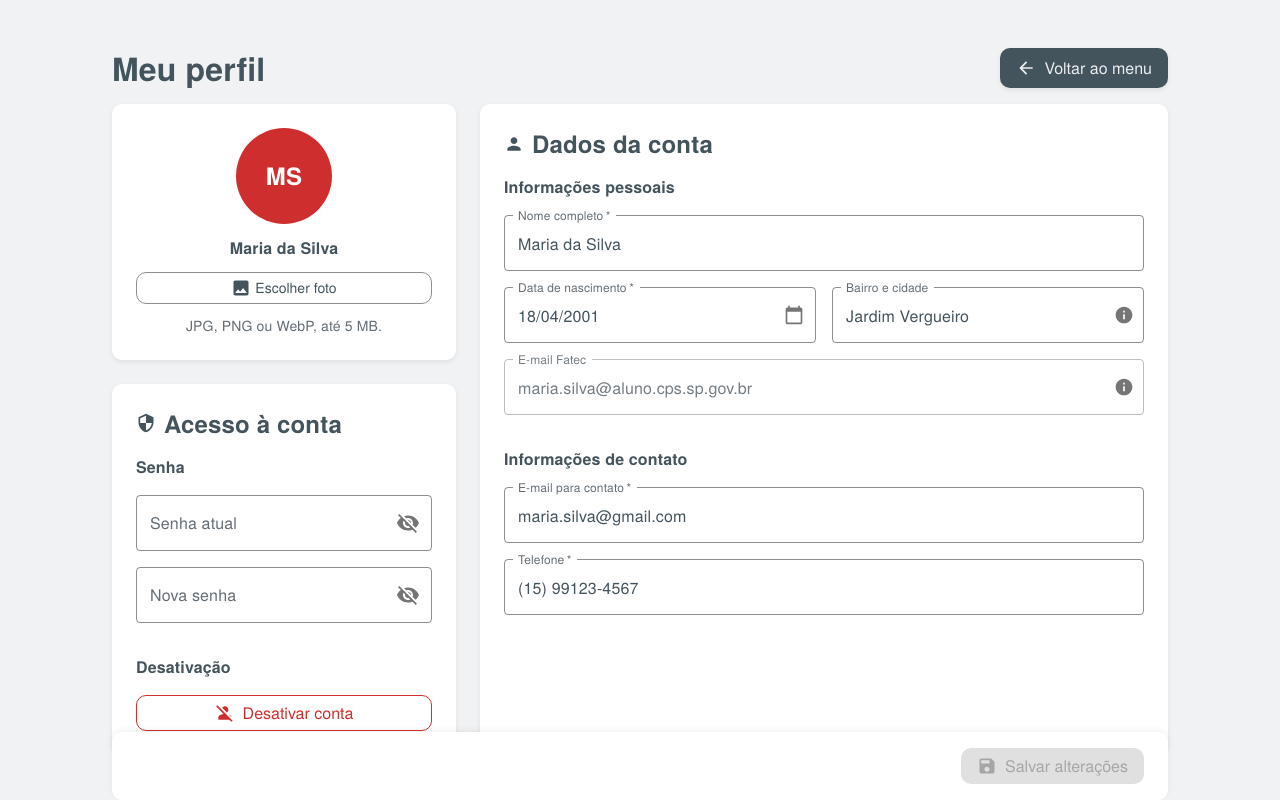
Test: Profile › should explain what the neighborhood is for
The width and height of the screenshot is (1280, 800).
Click the button named "Bairro e cidade" at (1124, 315), box [1108,299,1140,331]
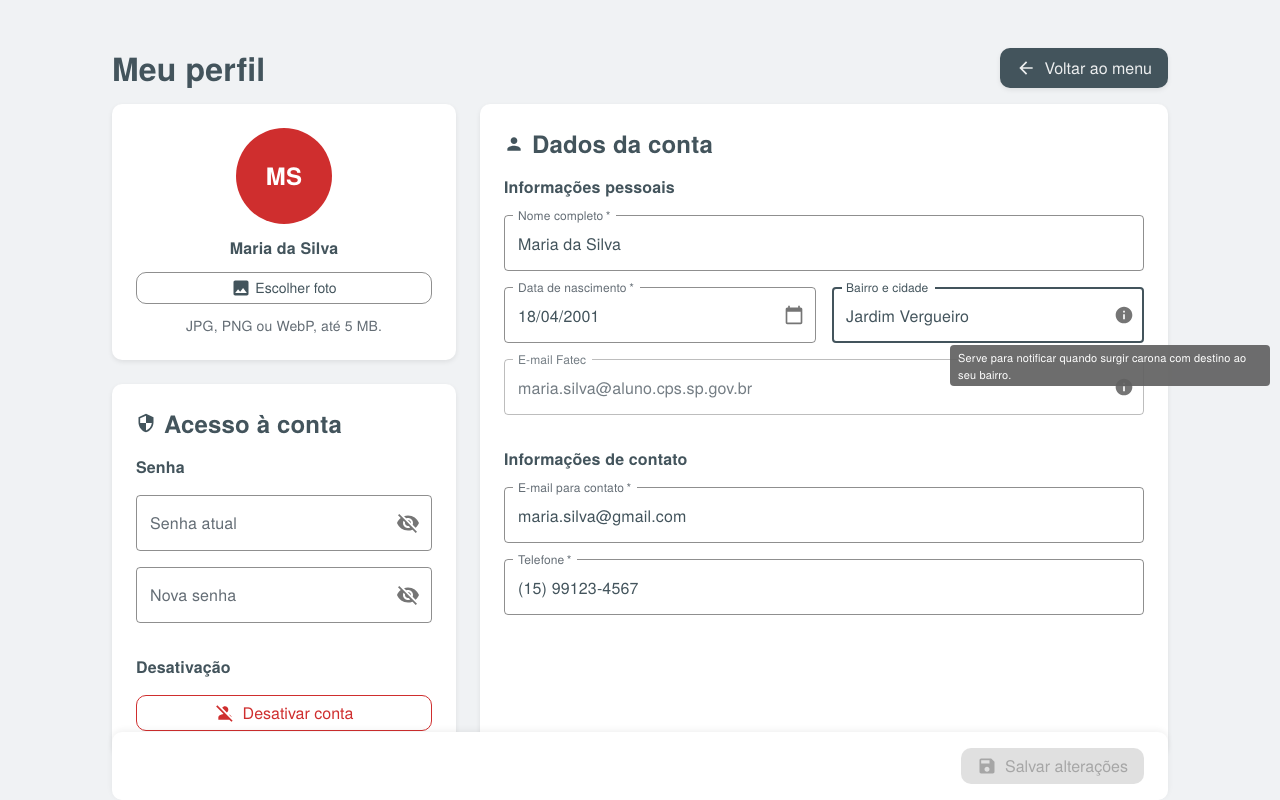
Expected: the tooltip reads "Serve para notificar quando surgir carona com destino ao seu bairro.", [958,349,1246,382]
